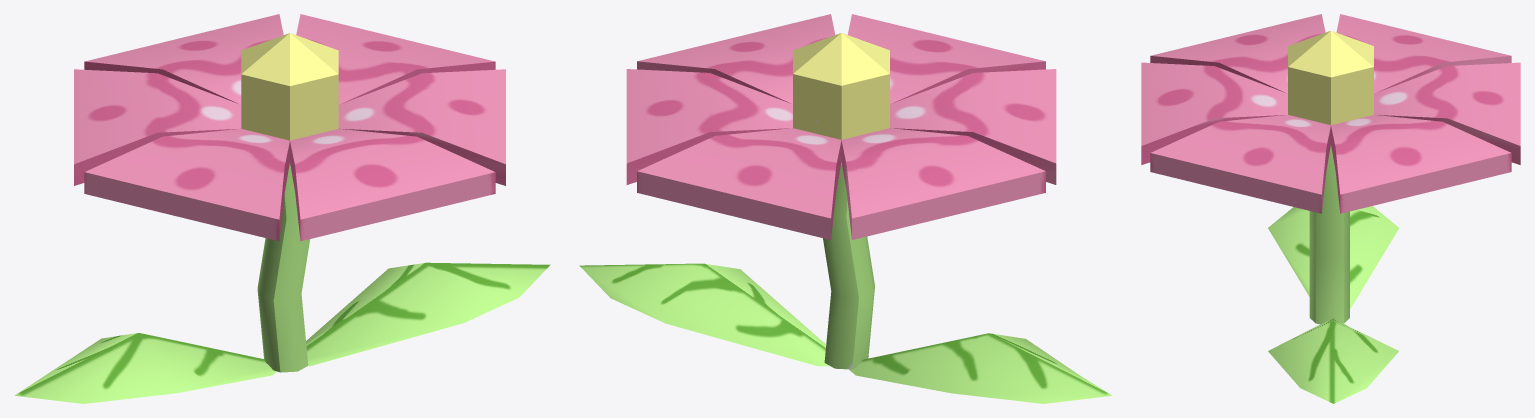
The model's file is SAModel_Flower.fbx.
The picture shows the model from 3 angles, left to right: view 1: azimuth 30°, elevation 25°; view 2: azimuth 150°, elevation 25°; view 3: azimuth 270°, elevation 25°; orthographic projection. The views are drawn at different scales.
Parts seen in each view (by area): view 1: Stage0001__1_:Flower0; view 2: Stage0001__1_:Flower0; view 3: Stage0001__1_:Flower0.
Boxes of the visible parts, x1,y1,x2,y2 form: Stage0001__1_:Flower0: (15,14,550,403); Stage0001__1_:Flower0: (579,14,1112,403); Stage0001__1_:Flower0: (1141,14,1520,403).
Size of the model in its own units: 11.11 by 6.62 by 7.75.
